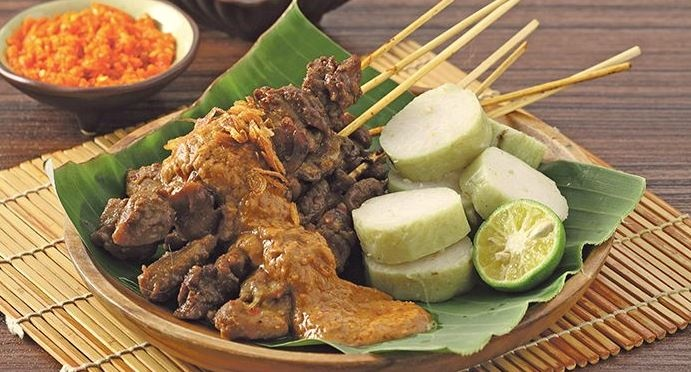sate: (93, 54, 393, 339)
